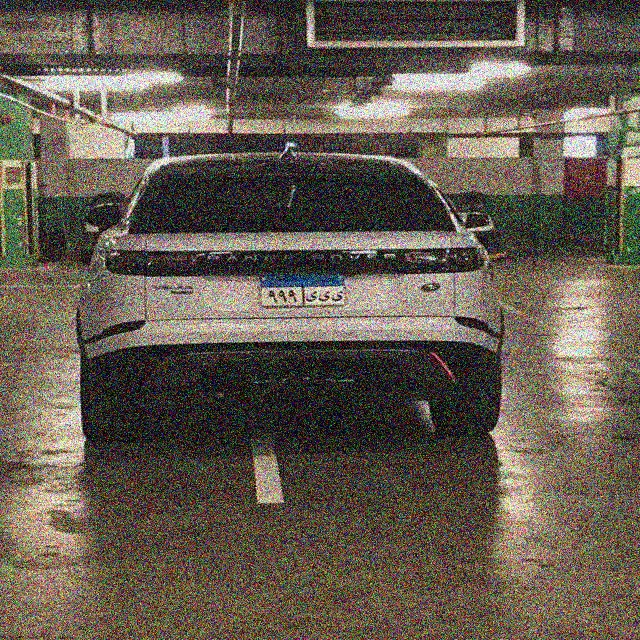License Plate: (258, 272, 347, 308)
